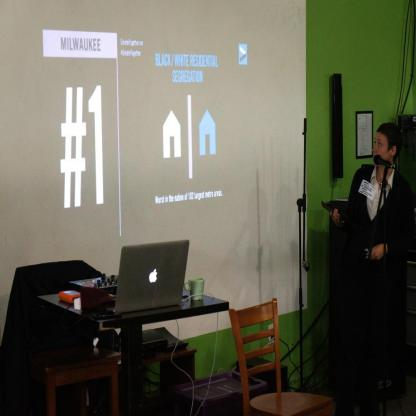board: (106, 240, 190, 312)
